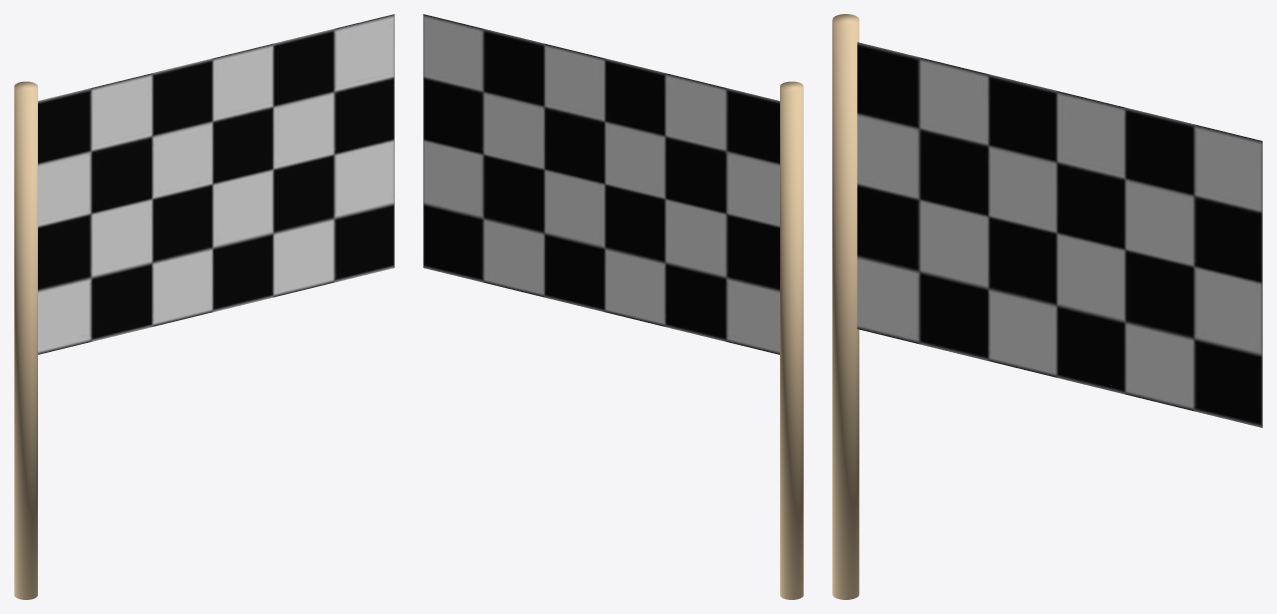
Rendered from flag_1.glb.
3 renders of one model, left to right at view 1: azimuth 30°, elevation 25°; view 2: azimuth 150°, elevation 25°; view 3: azimuth 330°, elevation 25°, orthographic. The views are drawn at different scales.
Parts seen in each view (by area): view 1: pole.001; view 2: pole.001; view 3: pole.001.
Boxes of the visible parts, <box> form: pole.001: <box>14,14,394,599</box>; pole.001: <box>423,14,803,599</box>; pole.001: <box>832,14,1262,599</box>.
Size of the model in its own units: 0.6245 by 0.8008 by 0.0339.
2 materials, 1 textured.
